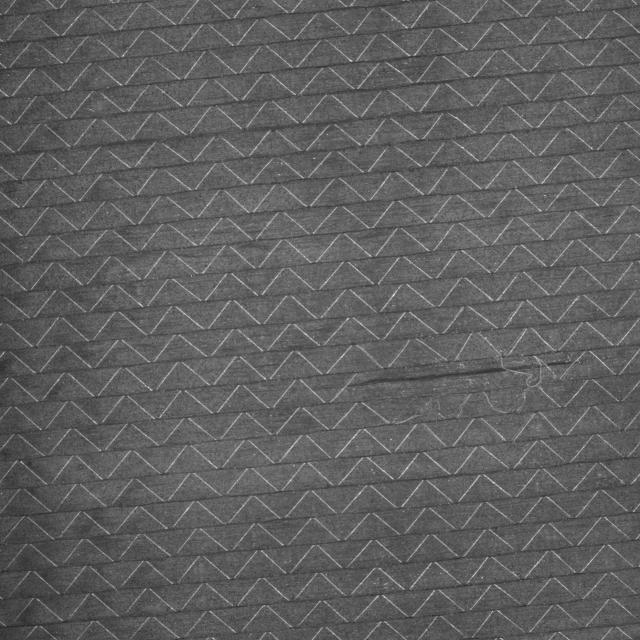carbon-fibre-defect: (339, 347, 584, 406)
